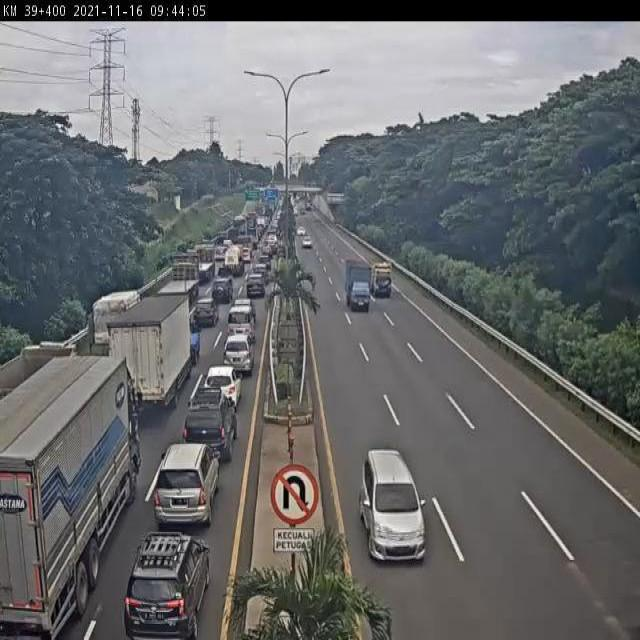car: (126, 527, 213, 637), (358, 445, 430, 571), (146, 437, 223, 520), (182, 384, 245, 451), (219, 334, 259, 370), (201, 361, 239, 396), (225, 303, 255, 340), (242, 272, 267, 305), (193, 295, 217, 329), (208, 276, 236, 303), (301, 236, 314, 251)
small truck: (368, 254, 396, 302)
truck-l-: (1, 353, 146, 640), (158, 258, 196, 306), (195, 244, 216, 279)
truck-m-: (111, 295, 205, 409), (88, 280, 141, 353), (345, 260, 372, 315)
